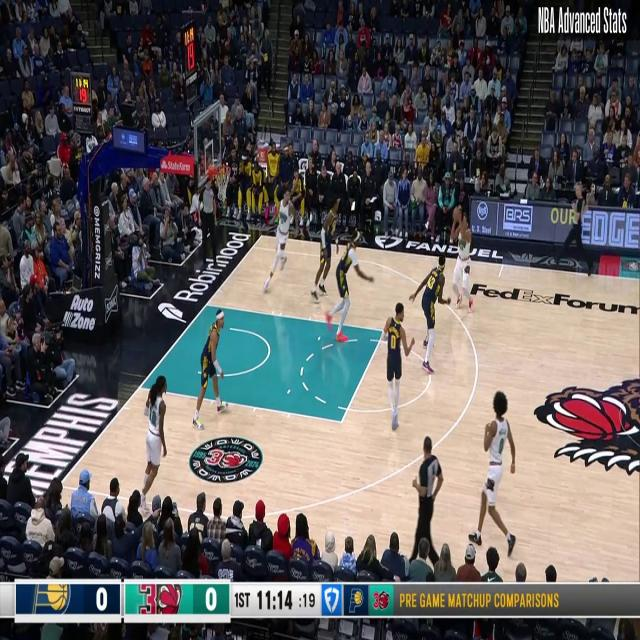ball: (452, 206, 463, 222)
judge: (409, 435, 444, 566), (560, 181, 592, 275), (199, 171, 219, 269)
player: (469, 390, 515, 554), (325, 236, 373, 346), (410, 258, 452, 378), (191, 310, 227, 428), (384, 301, 414, 425), (265, 188, 298, 294), (141, 380, 168, 501), (310, 191, 338, 299), (450, 208, 475, 316)
